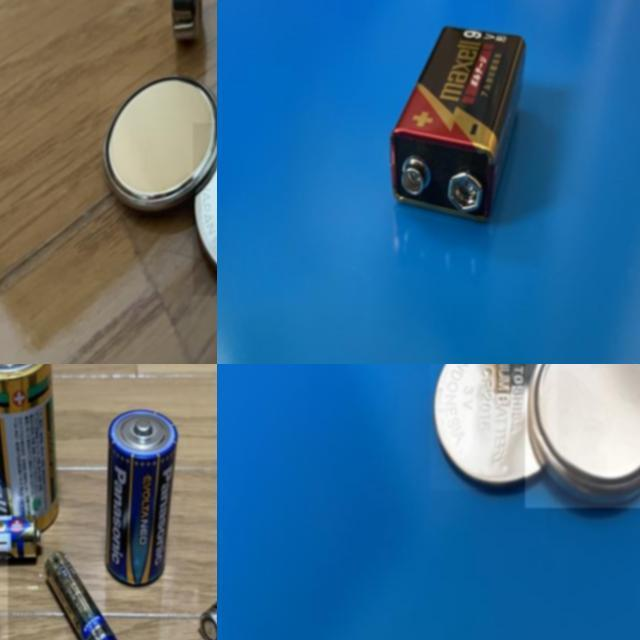9V: (389, 26, 527, 222)
